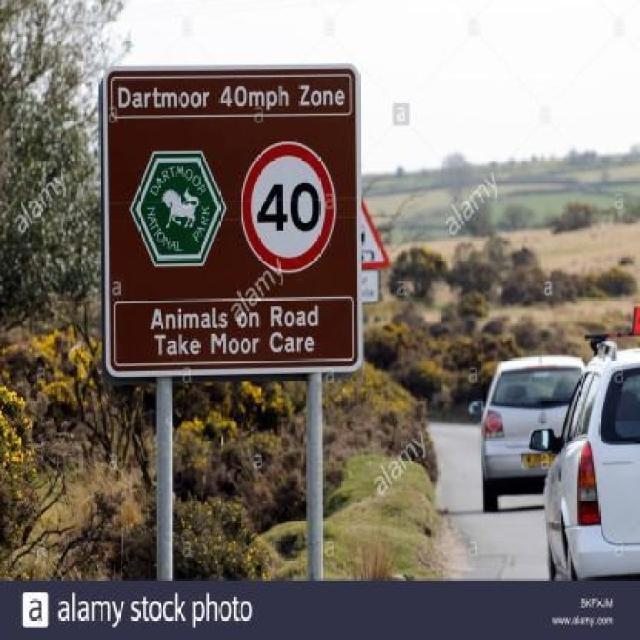forb_speed_over_40: (245, 140, 334, 272)
